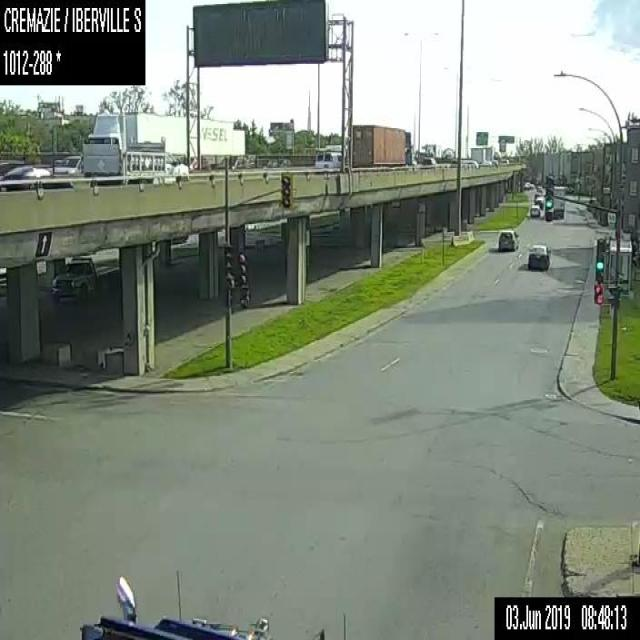vehicle: (79, 569, 346, 639), (85, 109, 246, 175), (50, 255, 118, 299), (351, 123, 410, 165), (0, 165, 72, 188), (152, 162, 188, 186), (313, 143, 341, 171), (412, 142, 442, 163), (215, 153, 254, 169), (526, 242, 550, 268), (54, 154, 82, 172), (498, 228, 518, 251), (263, 155, 292, 170), (552, 185, 565, 218), (0, 156, 24, 173), (450, 156, 478, 168), (470, 146, 485, 163), (422, 156, 436, 168), (529, 203, 540, 216), (484, 145, 493, 160), (534, 195, 544, 208), (479, 159, 492, 167), (533, 192, 541, 201), (499, 157, 508, 164), (523, 180, 530, 189), (491, 157, 497, 166), (536, 184, 542, 192)
